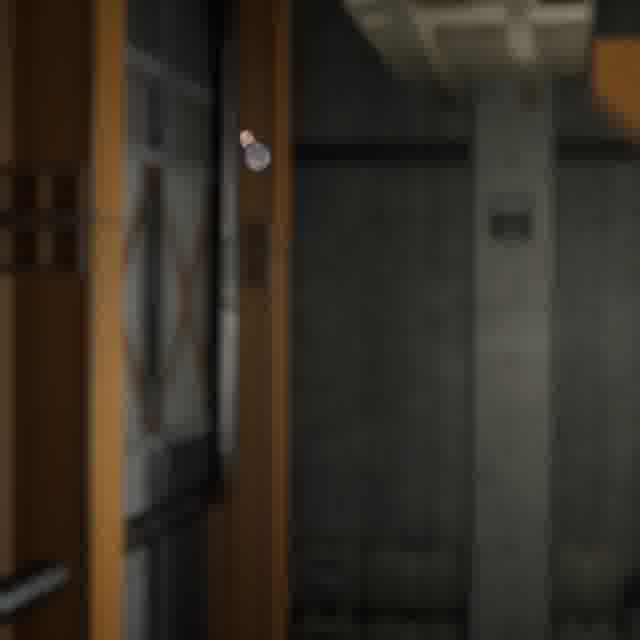bolt: (234, 125, 276, 177)
